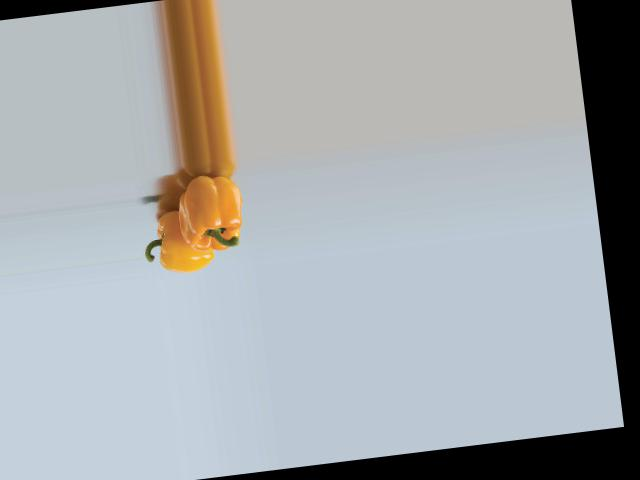bell_pepper: (139, 195, 218, 277)
